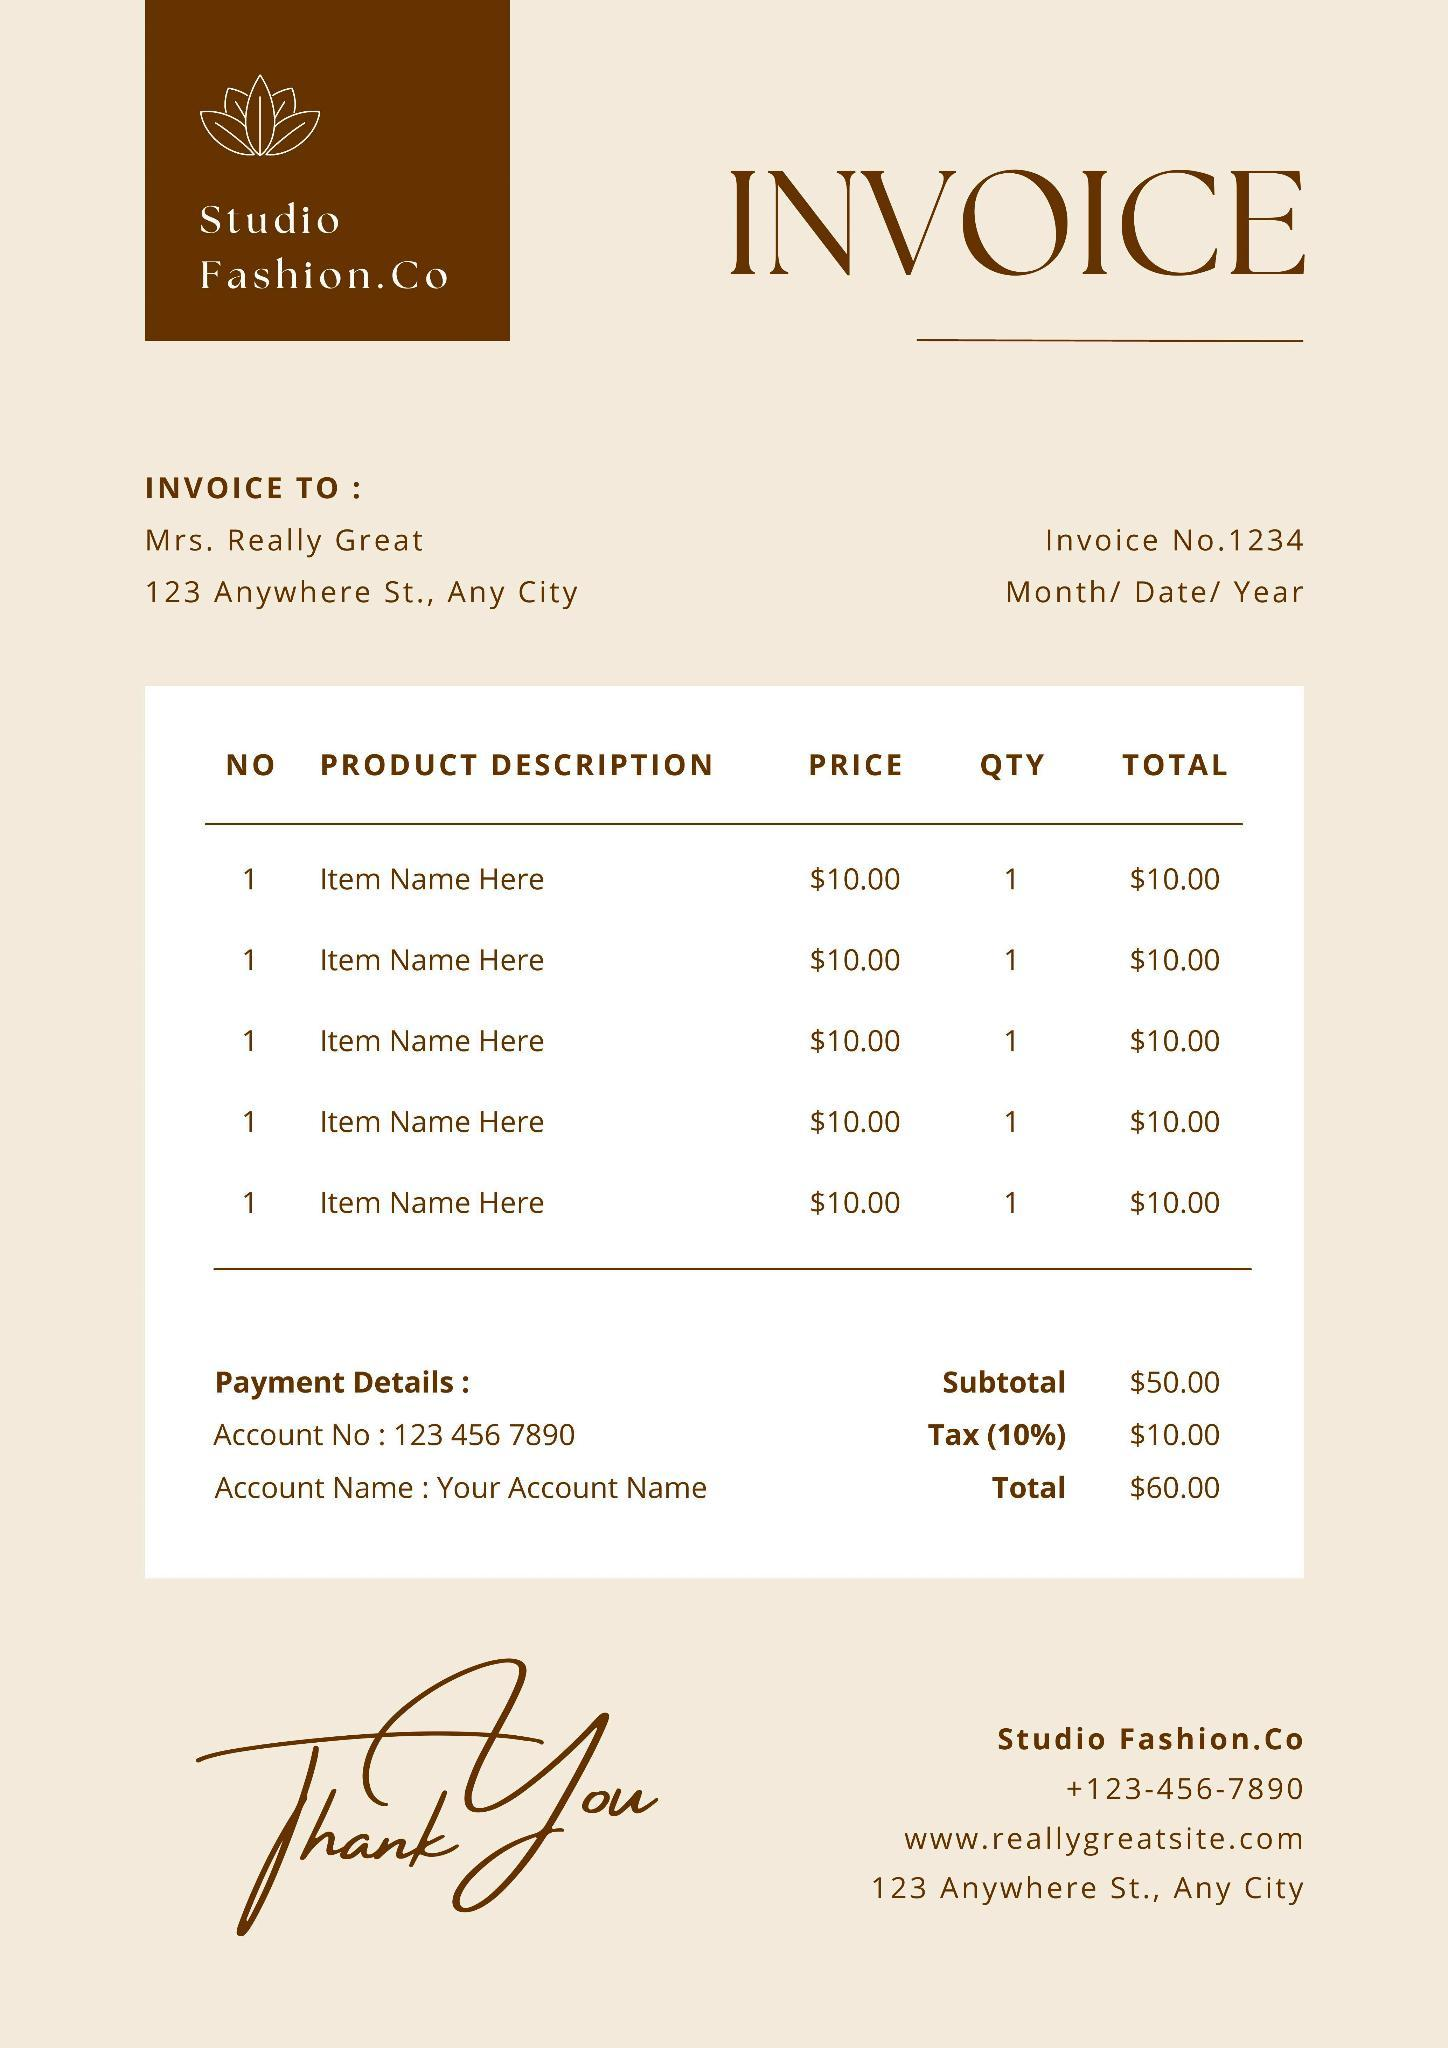ROI: (88, 650, 1341, 1296), (88, 1316, 784, 1561), (199, 1622, 694, 1959), (107, 2, 555, 364), (823, 1666, 1373, 1945), (719, 121, 1345, 342), (91, 414, 628, 624), (878, 1308, 1269, 1554), (943, 417, 1356, 624)
